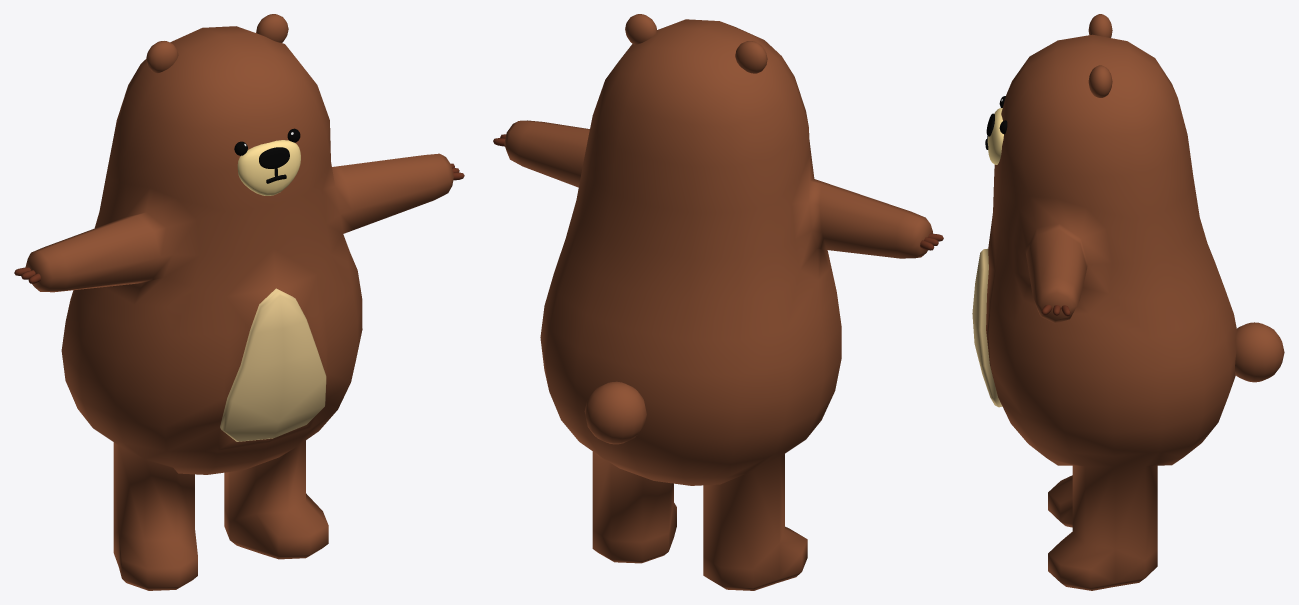
The model's file is Bear.fbx.
3 views of the same model, side by side, from view 1: azimuth 30°, elevation 25°; view 2: azimuth 150°, elevation 25°; view 3: azimuth 270°, elevation 25° (orthographic). The views are drawn at different scales.
Visible parts, largest first — view 1: Cube.006; view 2: Cube.006; view 3: Cube.006.
Boxes of the visible parts, bbox=[...] form: Cube.006: bbox=[14, 14, 464, 590]; Cube.006: bbox=[493, 14, 943, 590]; Cube.006: bbox=[972, 14, 1284, 590].
Size of the model in its own units: 1622 by 1860 by 1041.
